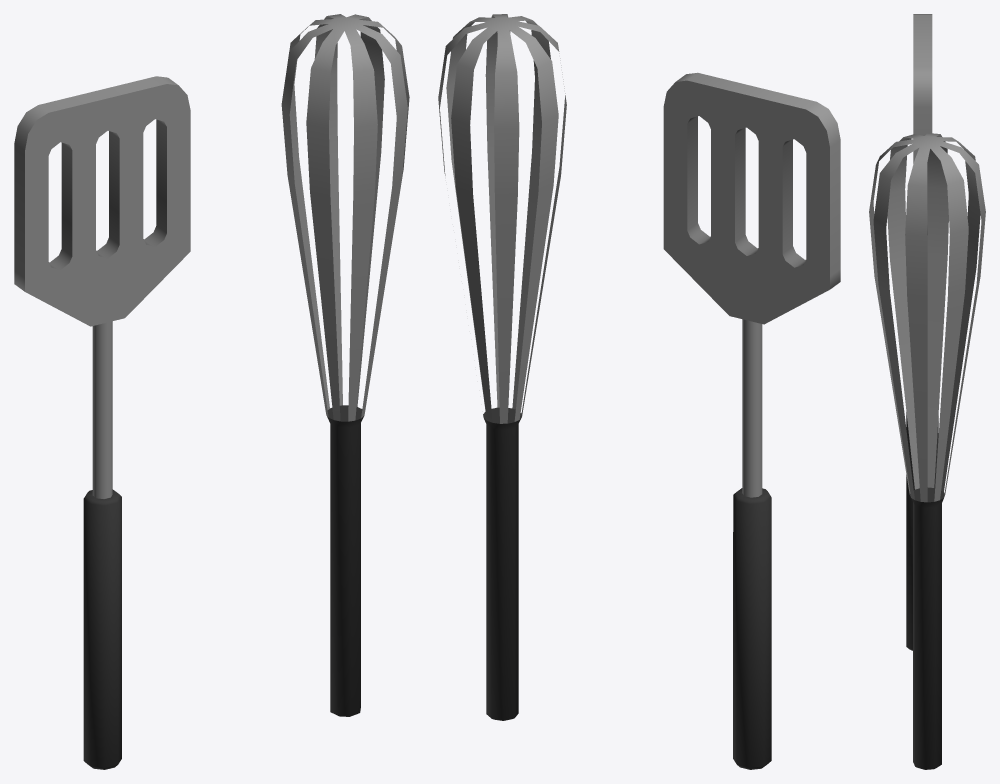
The model's file is Spatula & Whisk.fbx.
The picture shows the model from 3 angles, left to right: view 1: azimuth 30°, elevation 25°; view 2: azimuth 150°, elevation 25°; view 3: azimuth 270°, elevation 25°; orthographic projection. The views are drawn at different scales.
Parts seen in each view (by area): view 1: Spatula, Whisk; view 2: Spatula, Whisk; view 3: Whisk, Spatula.
Boxes of the visible parts, <box> form: Spatula: <box>14,76,190,769</box>; Whisk: <box>281,14,409,716</box>; Spatula: <box>663,72,840,769</box>; Whisk: <box>438,14,566,720</box>; Whisk: <box>869,133,985,769</box>; Spatula: <box>906,14,938,650</box>.
Size of the model in its own units: 0.4179 by 0.7147 by 0.1215.
